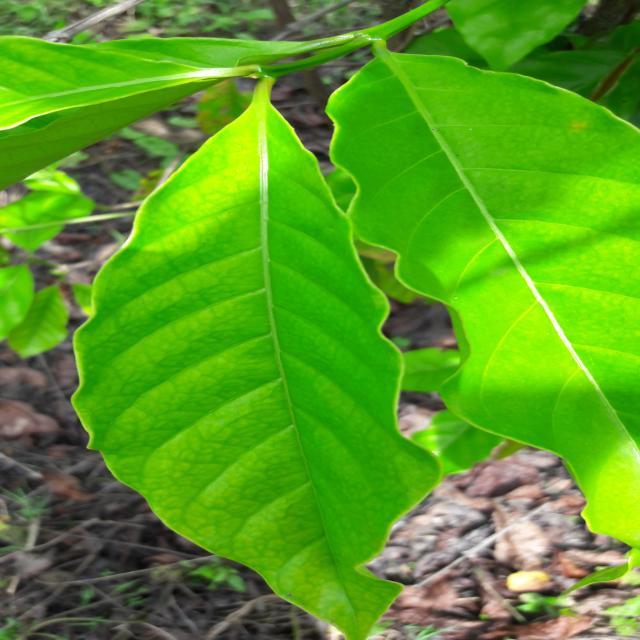Sanas: (70, 89, 446, 640)
